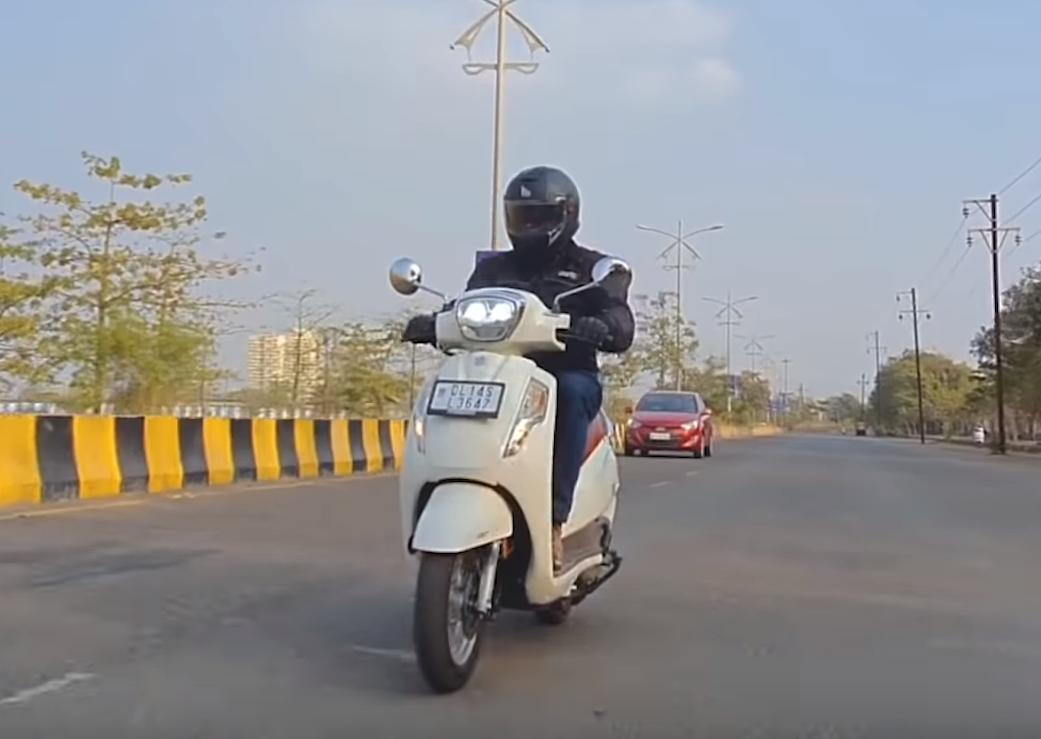helmet: (503, 165, 581, 265)
